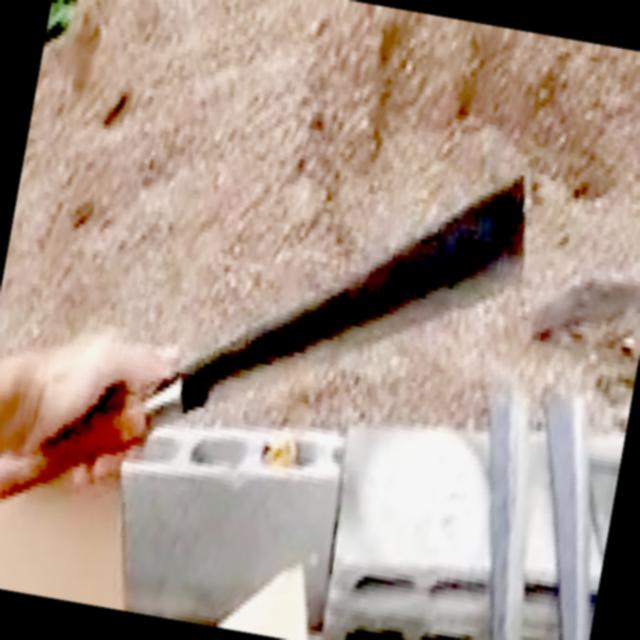eto: (482, 382, 532, 640)
